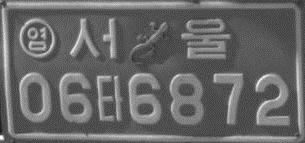0: (18, 71, 52, 123)
2: (254, 71, 290, 127)
6: (57, 71, 93, 124), (127, 72, 162, 125)
7: (212, 71, 244, 124)
8: (168, 72, 205, 125)
서울_D: (67, 17, 232, 60)
영: (18, 16, 56, 59)
타: (95, 74, 124, 122)
